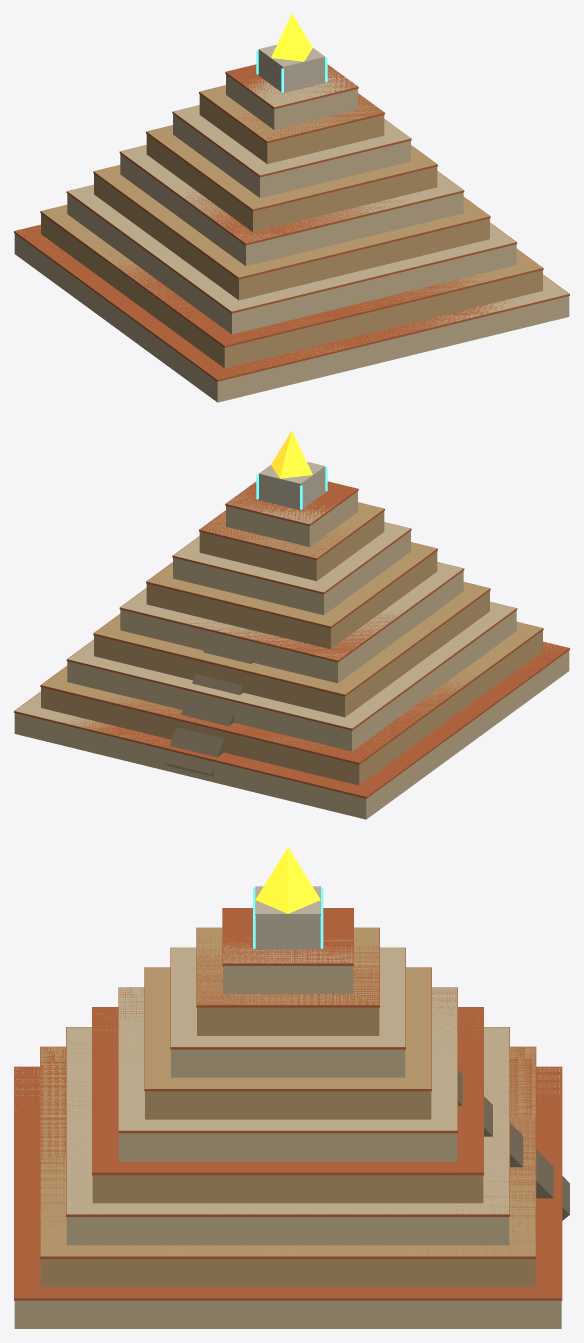
File: piramide.glb
The picture shows the model from 3 angles, top to bottom: view 1: azimuth 30°, elevation 25°; view 2: azimuth 150°, elevation 25°; view 3: azimuth 270°, elevation 25°; orthographic projection. The views are drawn at different scales.
Parts seen in each view (by area): view 1: piramide; view 2: piramide; view 3: piramide.
Part boxes in pixels (x1,y1,x2,y2): piramide: [14, 14, 569, 402]; piramide: [14, 431, 569, 819]; piramide: [14, 848, 569, 1328].
Bounding box in the file's own units: 251 × 184 × 254.
